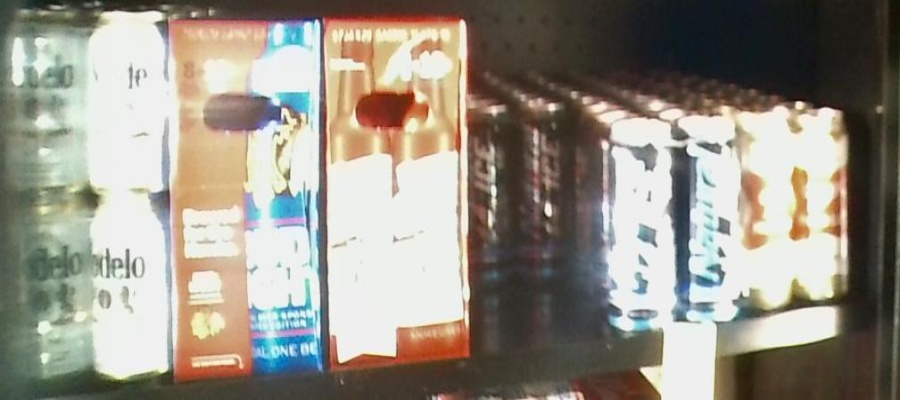bottle: (1, 8, 168, 381), (168, 16, 323, 379), (322, 11, 467, 361), (605, 125, 739, 328), (739, 117, 854, 303), (466, 106, 566, 285)
